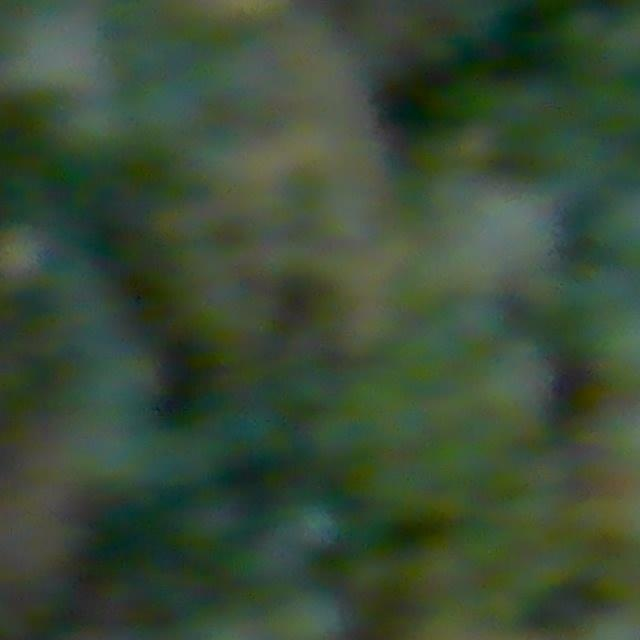SeaGrape: (470, 341, 555, 429), (269, 497, 341, 557), (277, 585, 349, 640)
